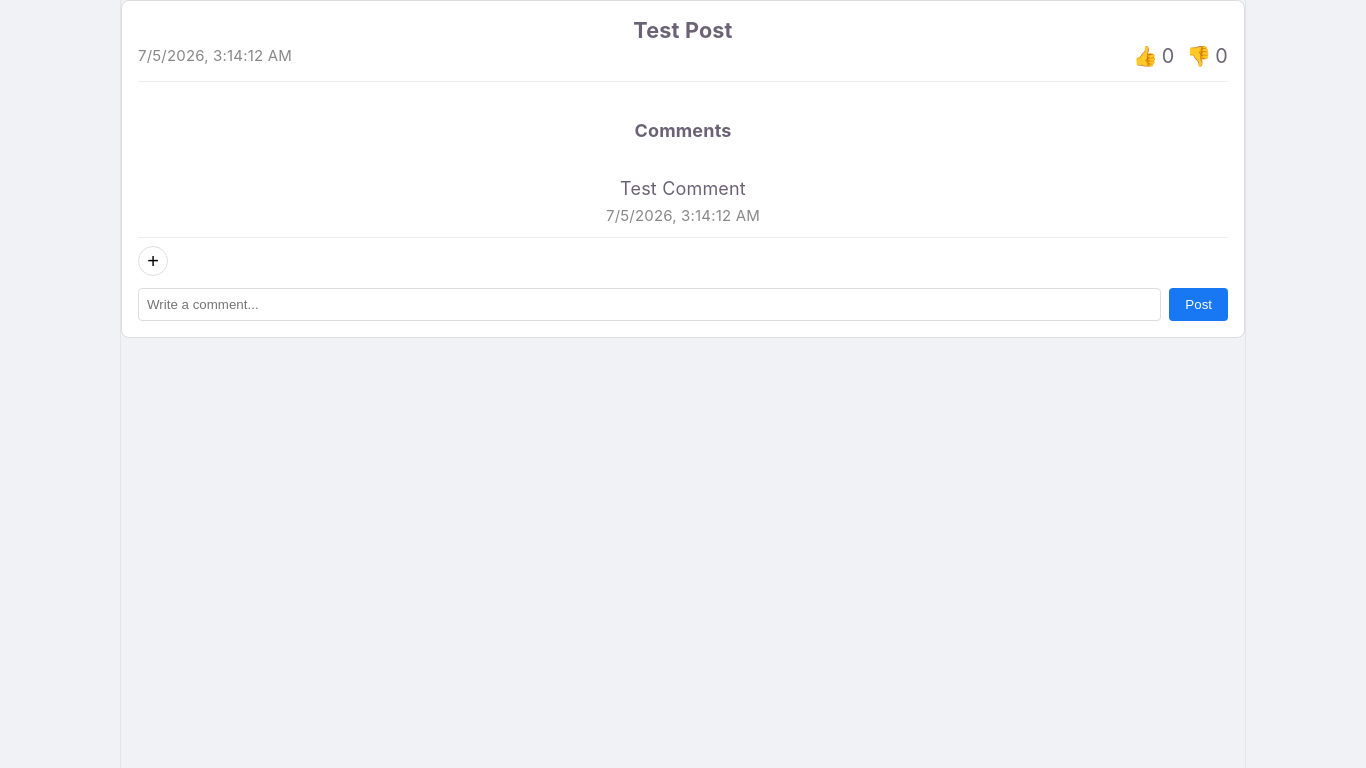
PostItem › shows "+" button when there are more comments and loads them on click
The image size is (1366, 768).
Click the button "+". click: point(153, 261)
box: [138,246,168,276]
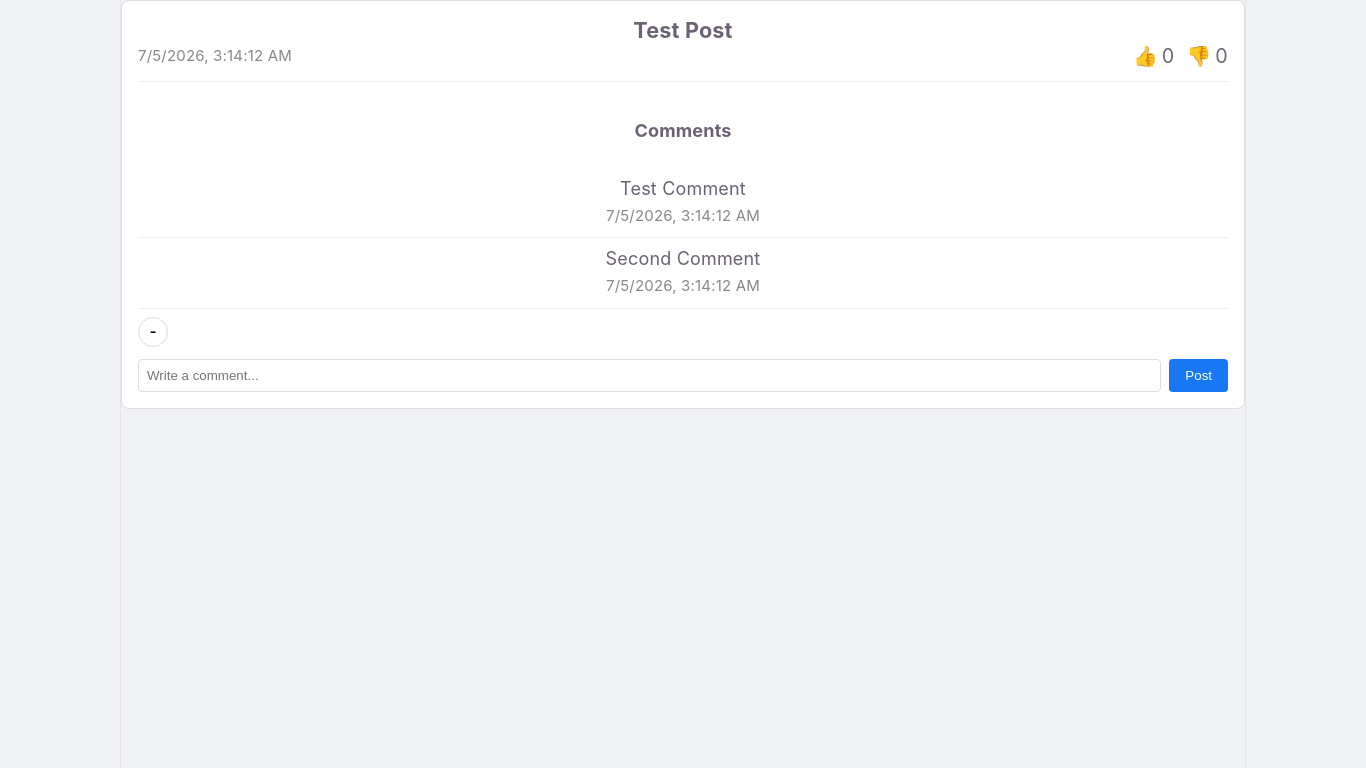
Check: the text "Second Comment" is shown, box [606,248,760,269]
Check: the button "+" is gone
Click the button "-". click: point(153, 332)
box: [138,316,168,346]
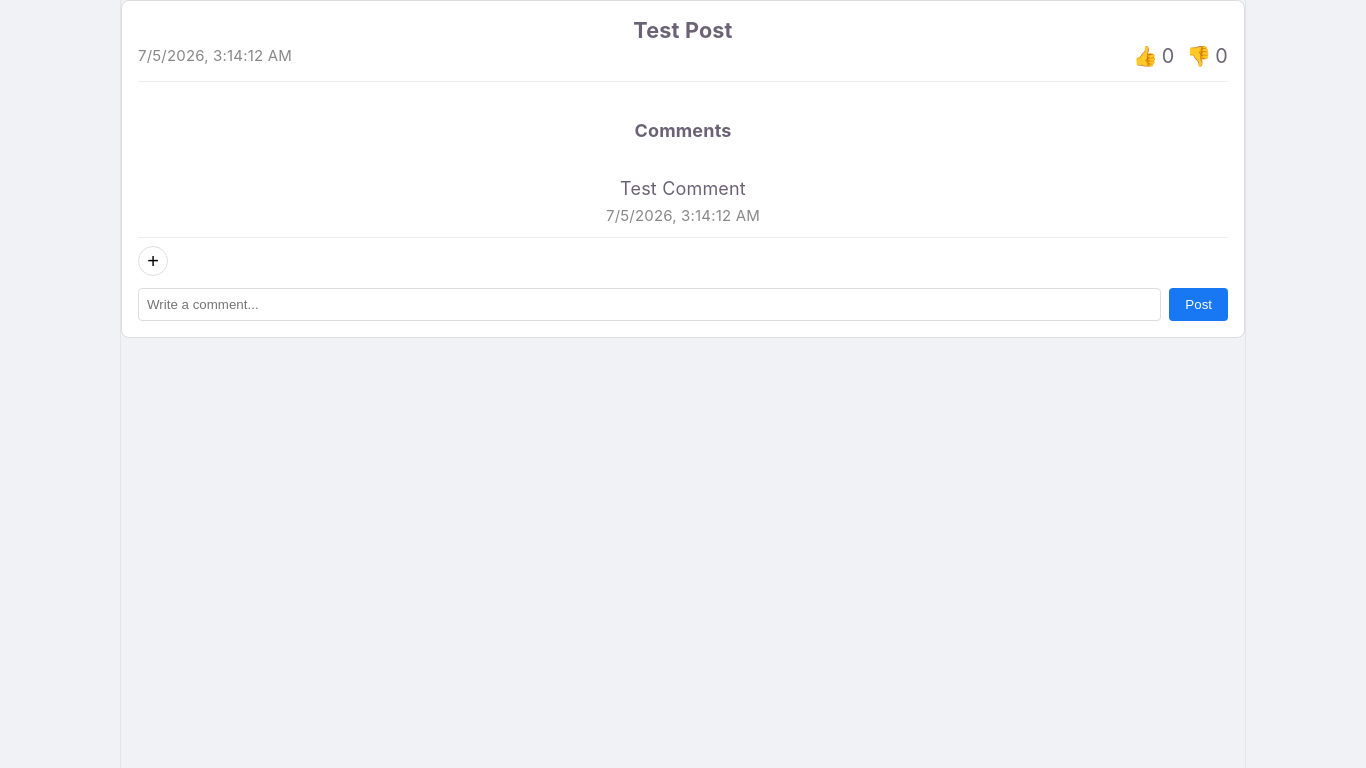
Check: the text "Test Comment" is shown, box [620,178,746,199]
Check: the text "Second Comment" is gone
Check: the button "+" is shown, box [138,246,168,276]
